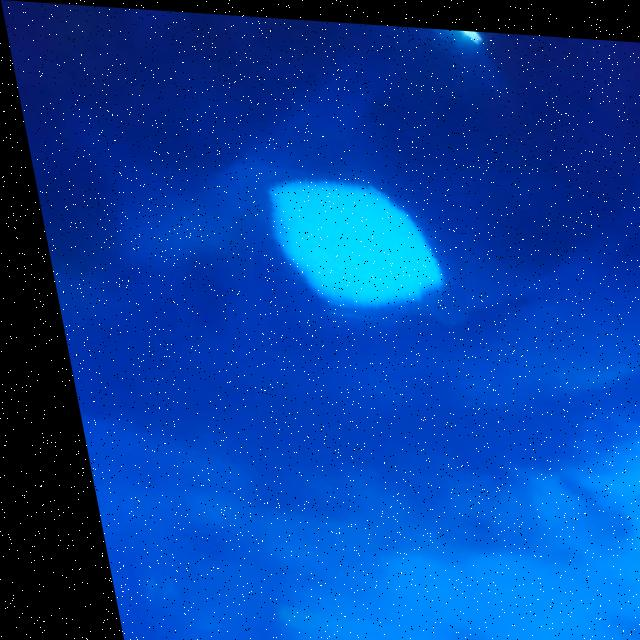litter: (228, 163, 470, 324)
